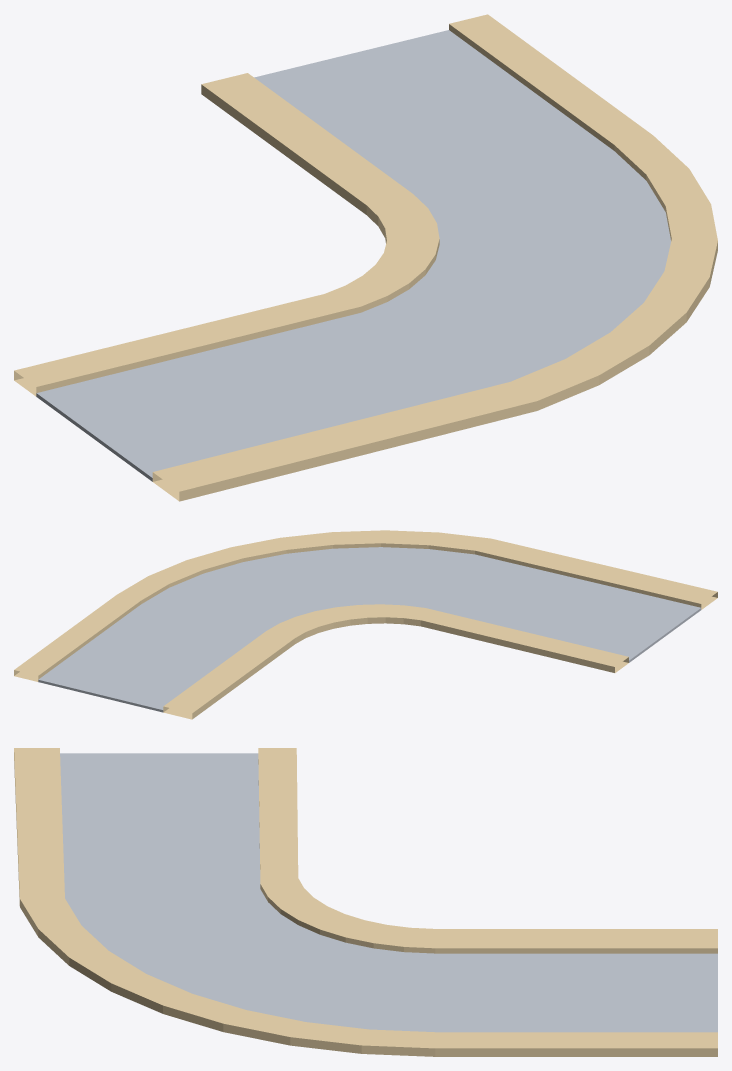
Rendered from pedestrian-way-curved-piece.fbx.
The picture shows the model from 3 angles, top to bottom: view 1: azimuth 30°, elevation 25°; view 2: azimuth 150°, elevation 25°; view 3: azimuth 270°, elevation 25°; orthographic projection. The views are drawn at different scales.
Parts seen in each view (by area): view 1: pedestrian-way-curved-piece; view 2: pedestrian-way-curved-piece; view 3: pedestrian-way-curved-piece.
Boxes of the visible parts, box(x1,y1,x2,y2) form: pedestrian-way-curved-piece: box(14, 14, 717, 501); pedestrian-way-curved-piece: box(14, 530, 717, 719); pedestrian-way-curved-piece: box(14, 748, 717, 1056).
Size of the model in its own units: 12.53 by 0.165 by 12.41.
